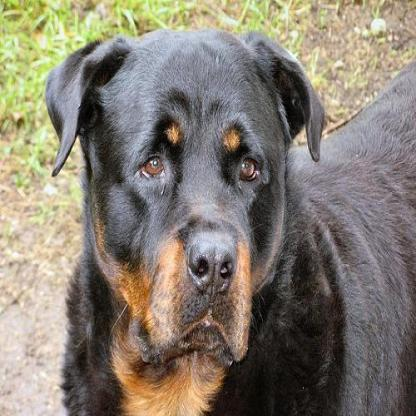Rottweiler: (37, 27, 414, 413)
